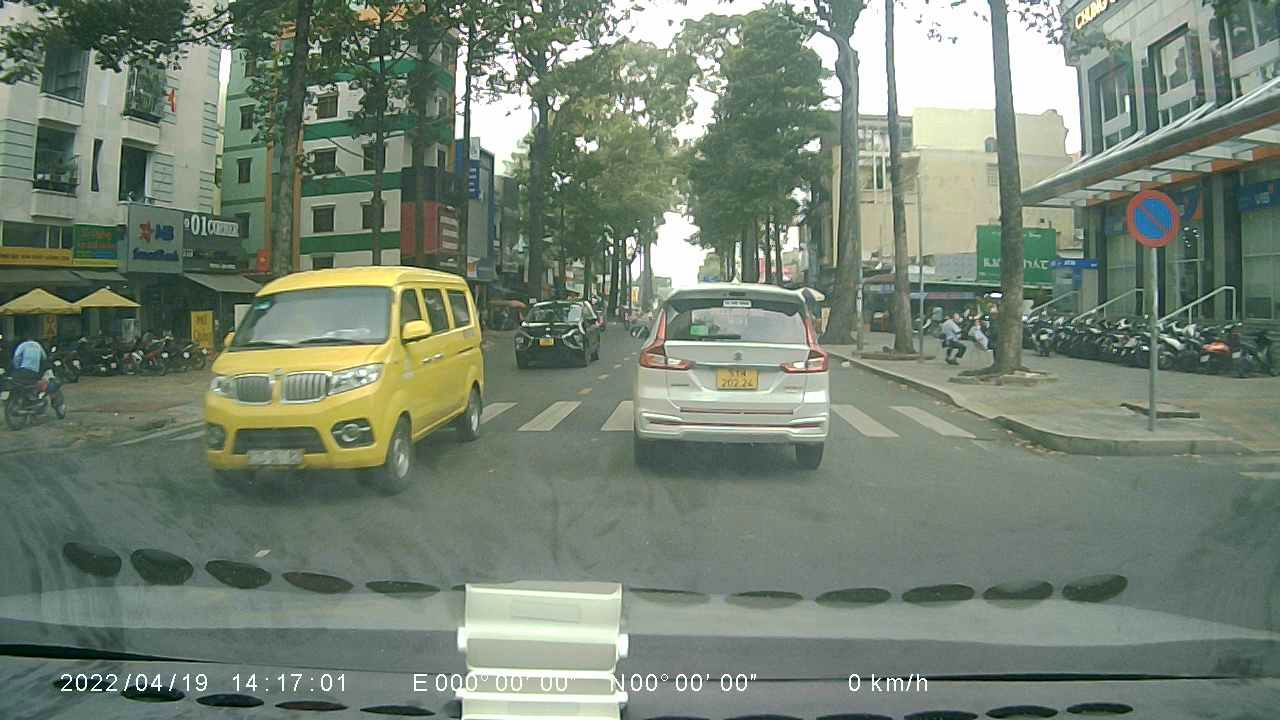Cam do xe: (1124, 189, 1180, 247)
